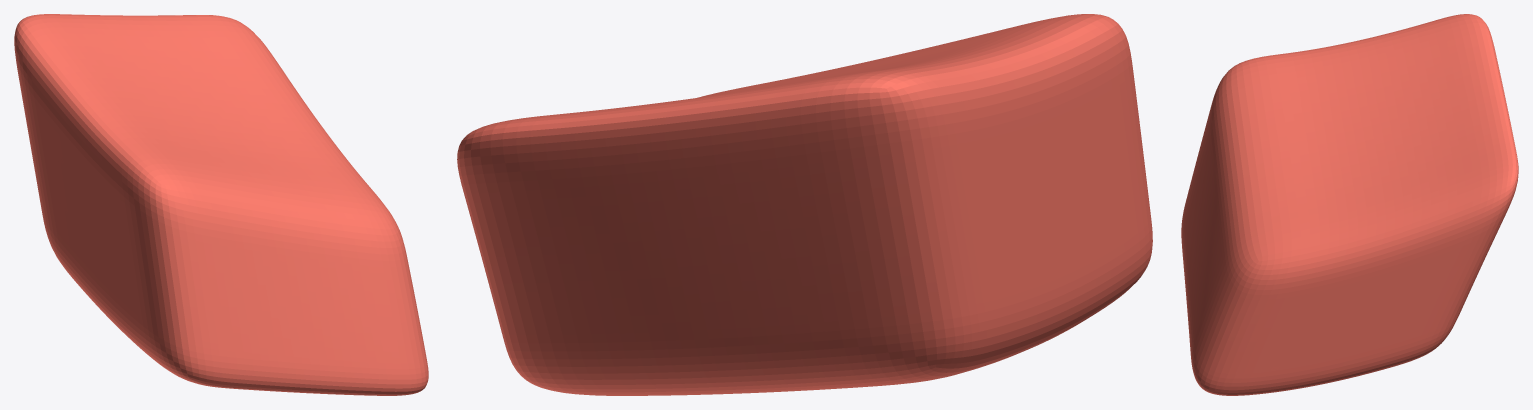
3 views of the same model, side by side, from view 1: azimuth 30°, elevation 25°; view 2: azimuth 150°, elevation 25°; view 3: azimuth 270°, elevation 25° (orthographic). The views are drawn at different scales.
Parts seen in each view (by area): view 1: waves_1.049; view 2: waves_1.049; view 3: waves_1.049.
Part boxes in pixels (<box>): waves_1.049: <box>14,14,428,395</box>; waves_1.049: <box>457,14,1152,395</box>; waves_1.049: <box>1181,14,1518,395</box>.
Size of the model in its own units: 30.45 by 33.17 by 36.66.
